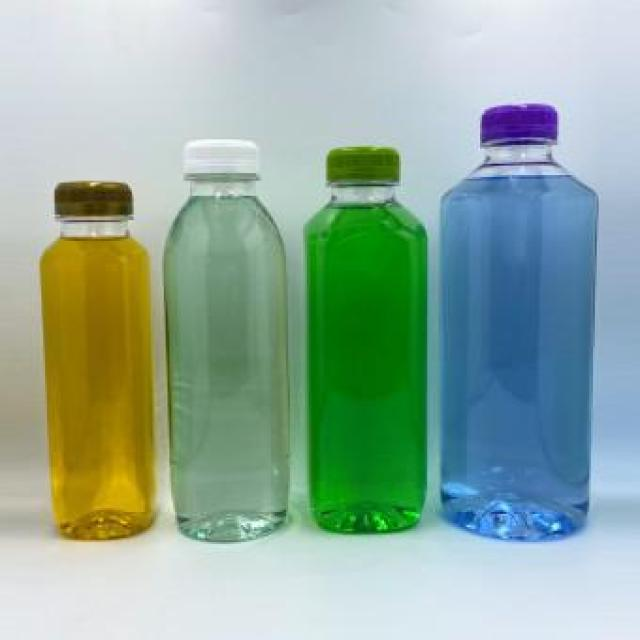bottle: (434, 104, 598, 540), (158, 137, 300, 544), (299, 146, 429, 534), (30, 173, 160, 545)
